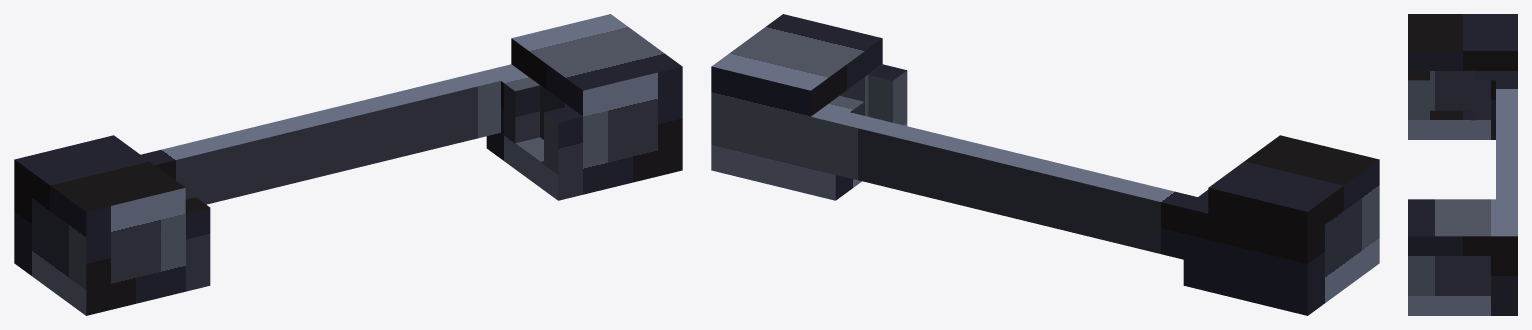
The model's file is light_tube_empty.glb.
3 views of the same model, side by side, from view 1: azimuth 30°, elevation 25°; view 2: azimuth 150°, elevation 25°; view 3: azimuth 270°, elevation 25° (orthographic). The views are drawn at different scales.
Visible parts, largest first — view 1: Housing_and_Sockets; view 2: Housing_and_Sockets; view 3: Housing_and_Sockets.
Boxes of the visible parts, x1=… form: Housing_and_Sockets: x1=14, y1=14, x2=682, y2=315; Housing_and_Sockets: x1=711, y1=14, x2=1379, y2=315; Housing_and_Sockets: x1=1408, y1=14, x2=1517, y2=315.
Bounding box in the file's own units: 0.675 × 0.1125 × 0.1406.
1 material, 1 textured.
